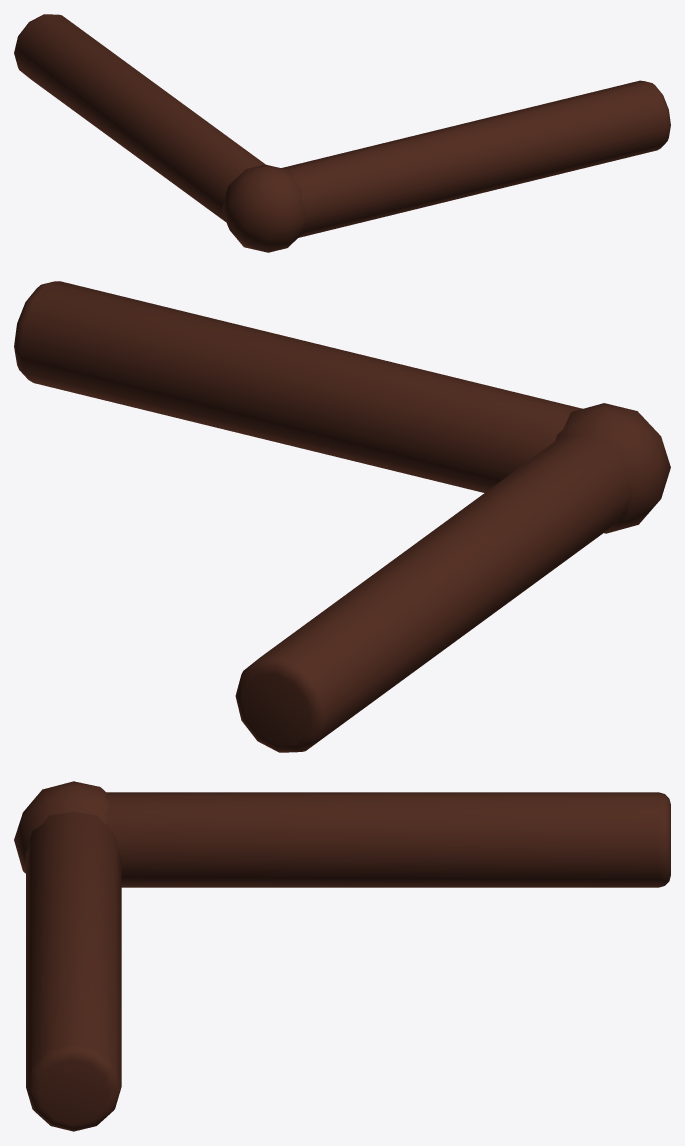
The model's file is BB_PROP_Conduit_Elbow90.obj.
The picture shows the model from 3 angles, top to bottom: view 1: azimuth 30°, elevation 25°; view 2: azimuth 150°, elevation 25°; view 3: azimuth 270°, elevation 25°; orthographic projection. The views are drawn at different scales.
Visible parts, largest first — view 1: BB_PROP_Conduit_Elbow90; view 2: BB_PROP_Conduit_Elbow90; view 3: BB_PROP_Conduit_Elbow90.
Part boxes in pixels (<box>): BB_PROP_Conduit_Elbow90: <box>14,14,670,252</box>; BB_PROP_Conduit_Elbow90: <box>14,281,670,752</box>; BB_PROP_Conduit_Elbow90: <box>14,781,670,1131</box>.
Size of the model in its own units: 0.5476 by 0.1 by 0.55.
